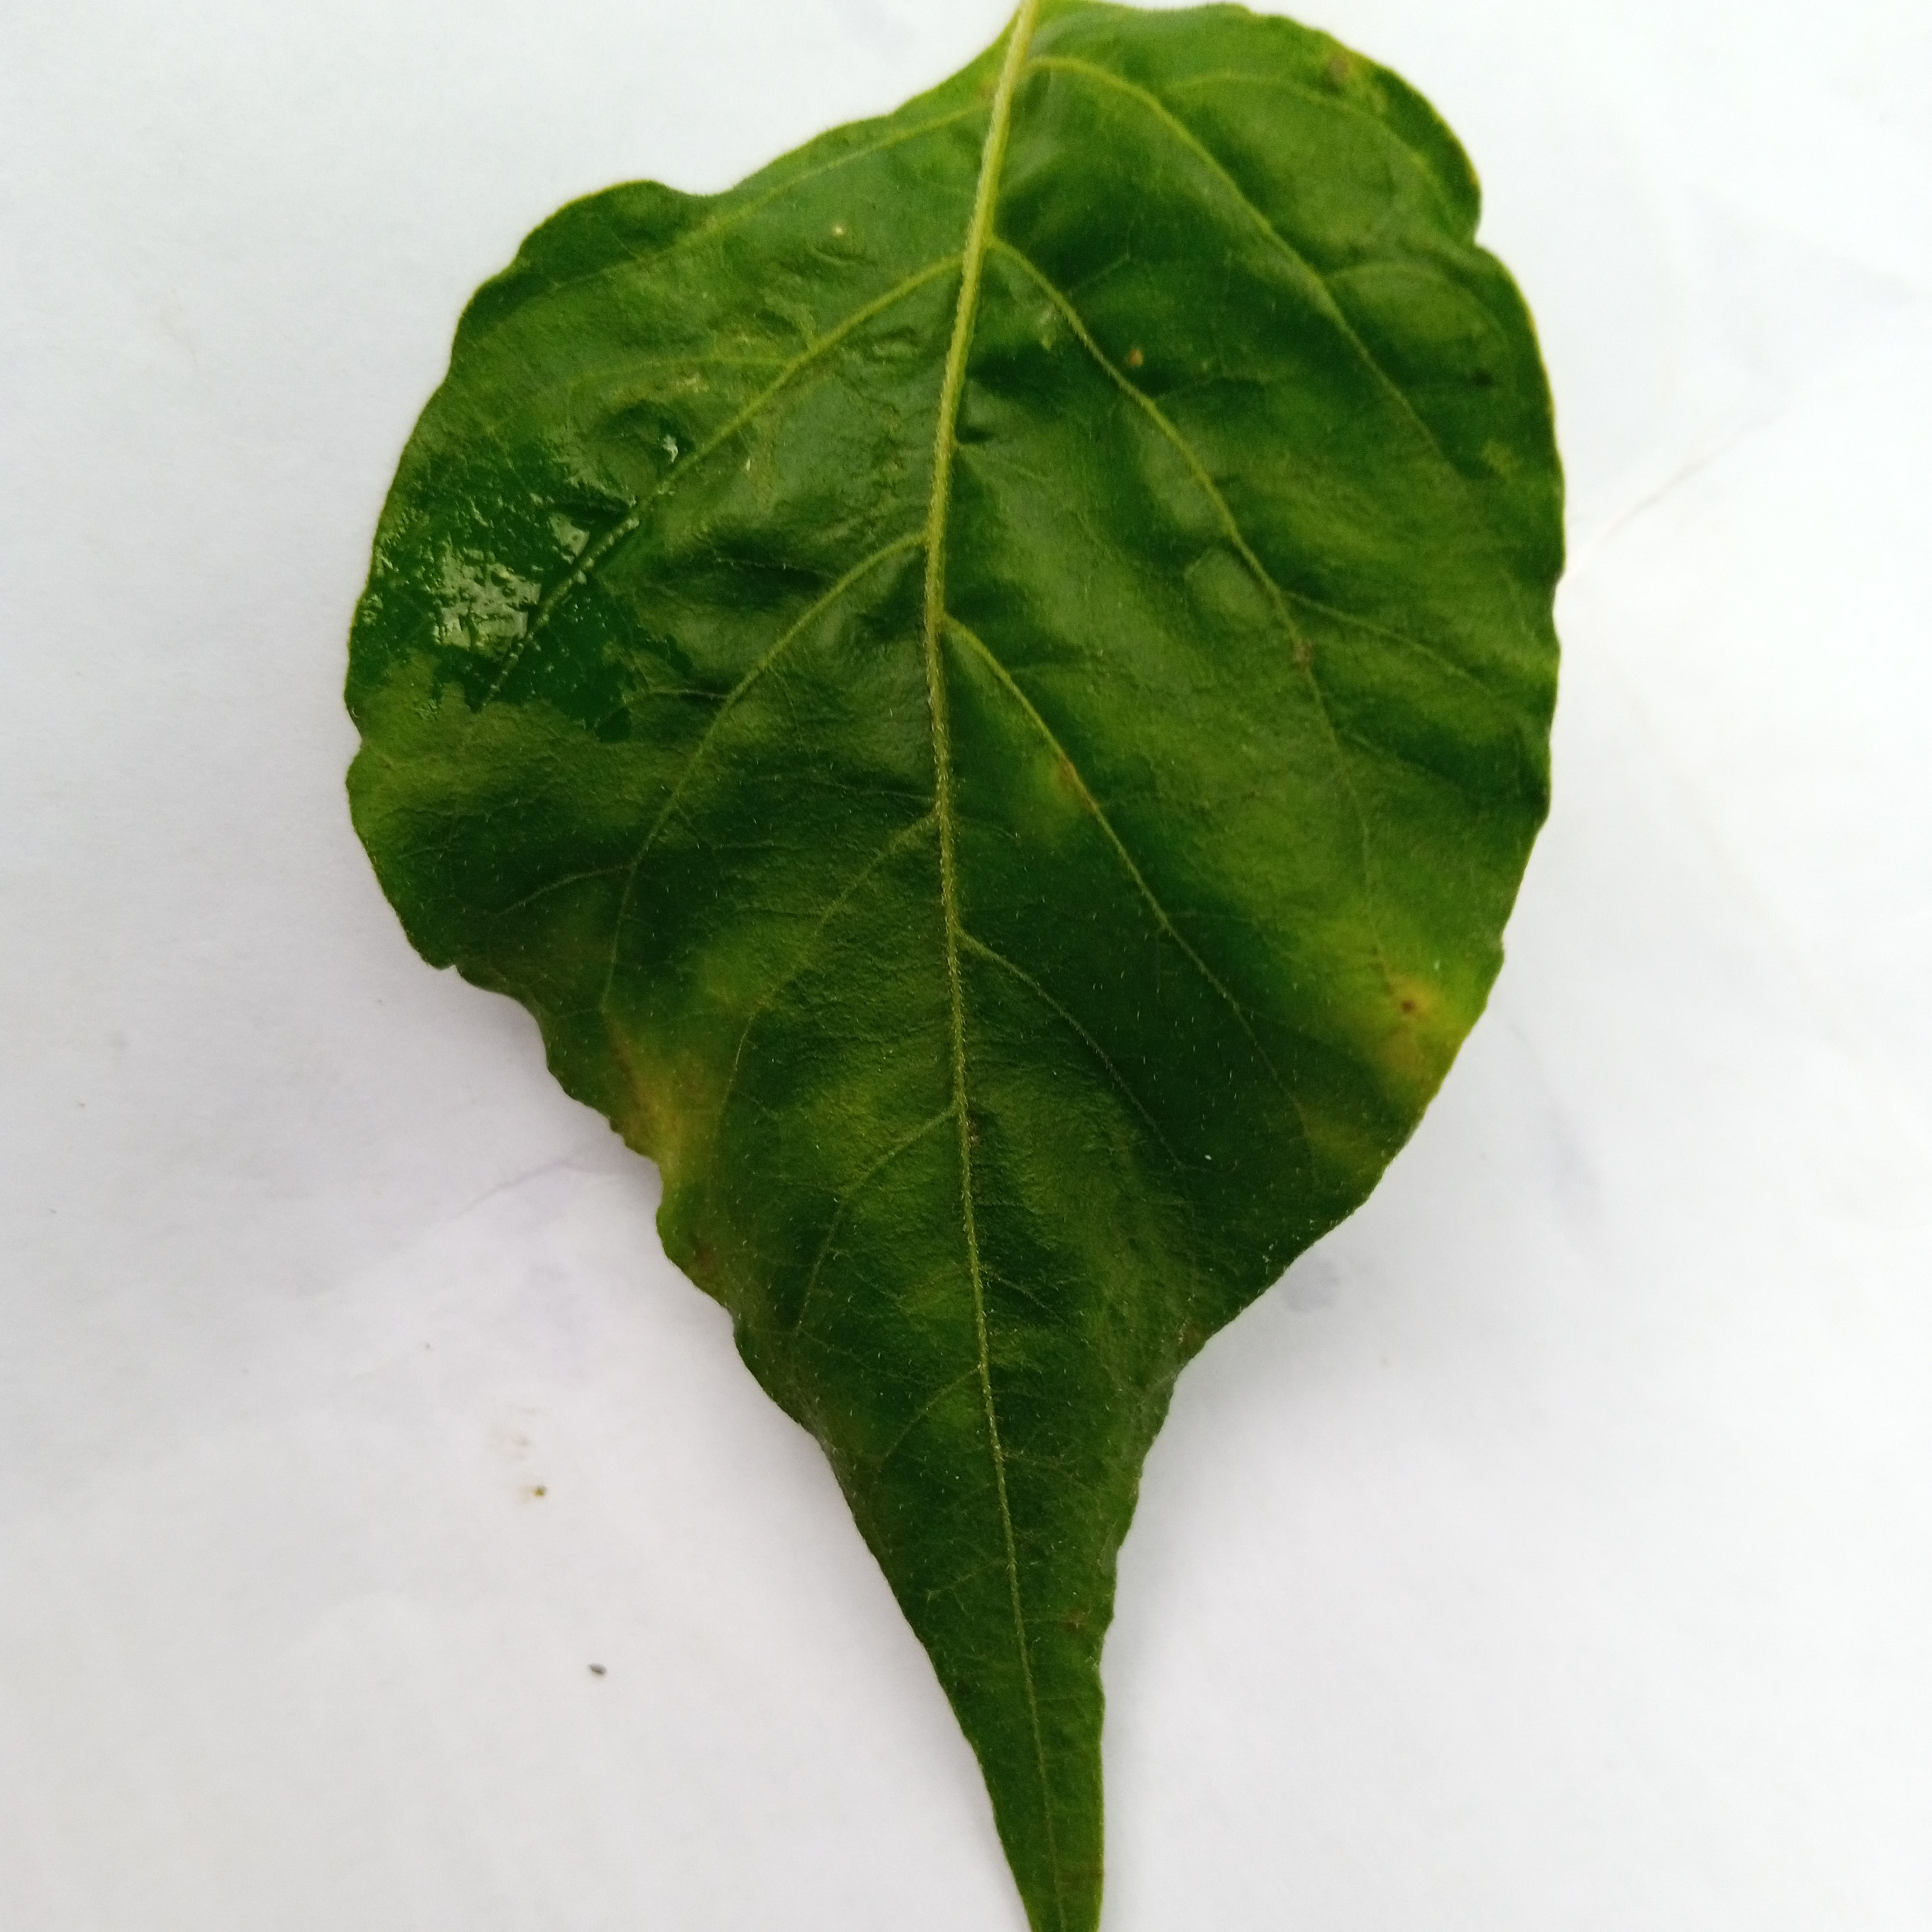Leaf: (189, 4, 1644, 1932)
